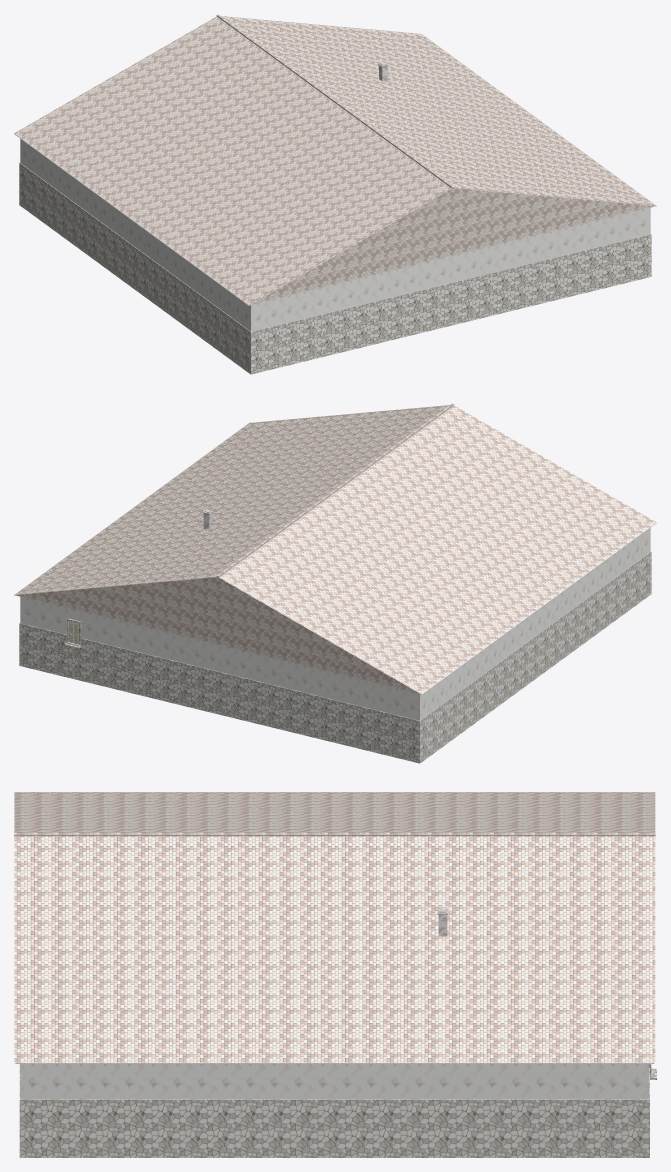
3 renders of one model, top to bottom at view 1: azimuth 30°, elevation 25°; view 2: azimuth 150°, elevation 25°; view 3: azimuth 270°, elevation 25°, orthographic. The views are drawn at different scales.
Parts seen in each view (by area): view 1: b253167679; view 2: b253167679; view 3: b253167679.
Boxes of the visible parts, box(x1,y1,x2,y2) form: b253167679: box(14, 14, 656, 374); b253167679: box(14, 403, 656, 763); b253167679: box(14, 792, 656, 1157).
Size of the model in its own units: 37.16 by 12.2 by 37.22.
Materials: 14 (14 with a texture image).
